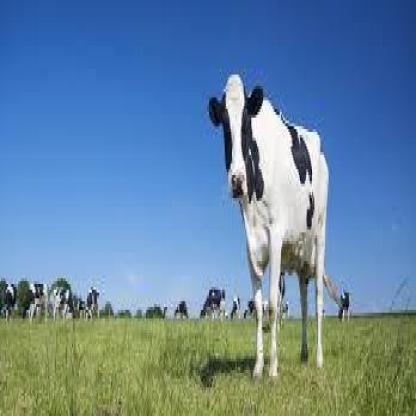cow: (208, 73, 330, 377), (21, 282, 48, 326), (200, 287, 225, 321), (48, 285, 70, 320), (0, 284, 18, 324), (86, 285, 100, 323), (338, 291, 350, 326), (174, 298, 189, 322), (230, 297, 241, 320), (244, 300, 256, 320), (77, 297, 86, 317), (262, 298, 269, 322), (281, 302, 289, 318)
